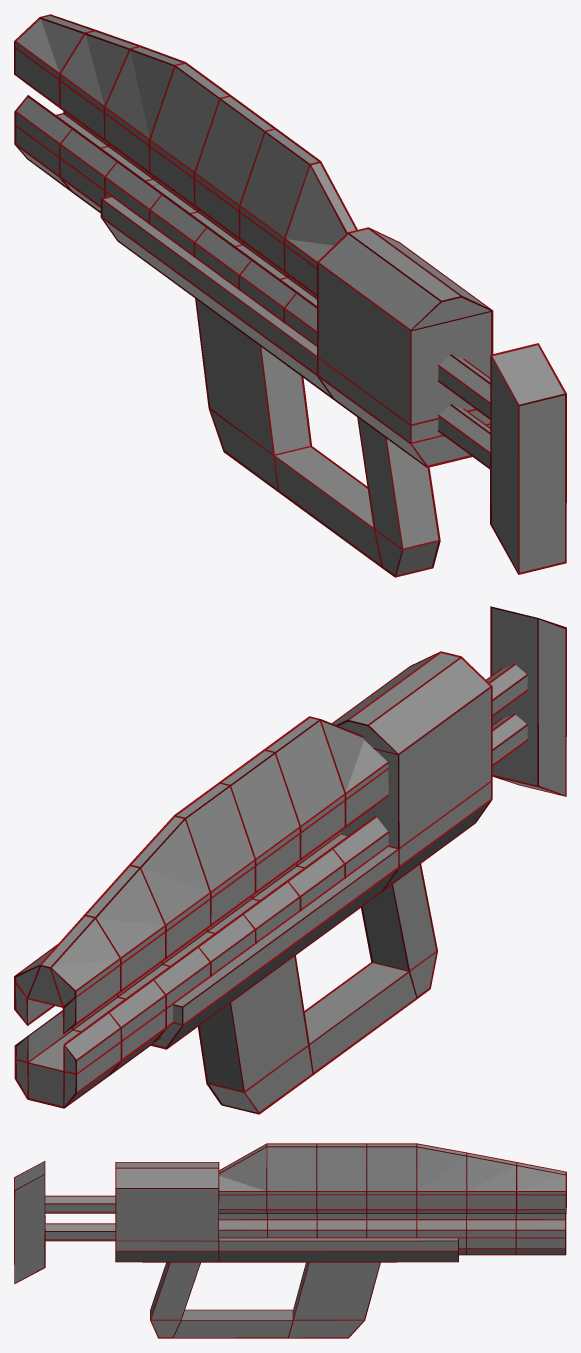
3 views of the same model, one above another, from view 1: azimuth 30°, elevation 25°; view 2: azimuth 150°, elevation 25°; view 3: azimuth 270°, elevation 25° (orthographic). The views are drawn at different scales.
Visible parts, largest first — view 1: Cube_011, Cube_012, Cube_013, Cube_003, Cube_014, Cube, Cylinder_001, Cylinder; view 2: Cube_011, Cube_012, Cube_013, Cube_003, Cube, Cube_014, Cylinder_001, Cylinder; view 3: Cube_011, Cube_012, Cube_003, Cube_013, Cube, Cube_014, Cylinder_001, Cylinder.
Boxes of the visible parts, <box> form: Cube_011: <box>15,16,355,293</box>; Cube_012: <box>102,197,490,465</box>; Cube_013: <box>196,300,438,575</box>; Cube_003: <box>14,14,566,577</box>; Cube_014: <box>491,345,564,572</box>; Cube: <box>16,97,316,344</box>; Cylinder_001: <box>438,355,490,417</box>; Cylinder: <box>438,405,490,466</box>; Cube_011: <box>15,718,388,1031</box>; Cube_012: <box>153,653,490,1046</box>; Cube_013: <box>199,865,436,1112</box>; Cube_003: <box>14,606,566,1114</box>; Cube: <box>16,817,388,1106</box>; Cube_014: <box>492,608,565,794</box>; Cylinder_001: <box>487,665,527,714</box>; Cylinder: <box>492,715,527,763</box>; Cube_011: <box>219,1144,565,1213</box>; Cube_012: <box>116,1162,457,1261</box>; Cube_003: <box>14,1143,566,1338</box>; Cube_013: <box>151,1262,379,1337</box>; Cube: <box>219,1214,564,1254</box>; Cube_014: <box>15,1162,44,1282</box>; Cylinder_001: <box>45,1196,115,1212</box>; Cylinder: <box>45,1224,115,1240</box>.
Size of the model in its own units: 0.0525 by 0.5429 by 0.204.
